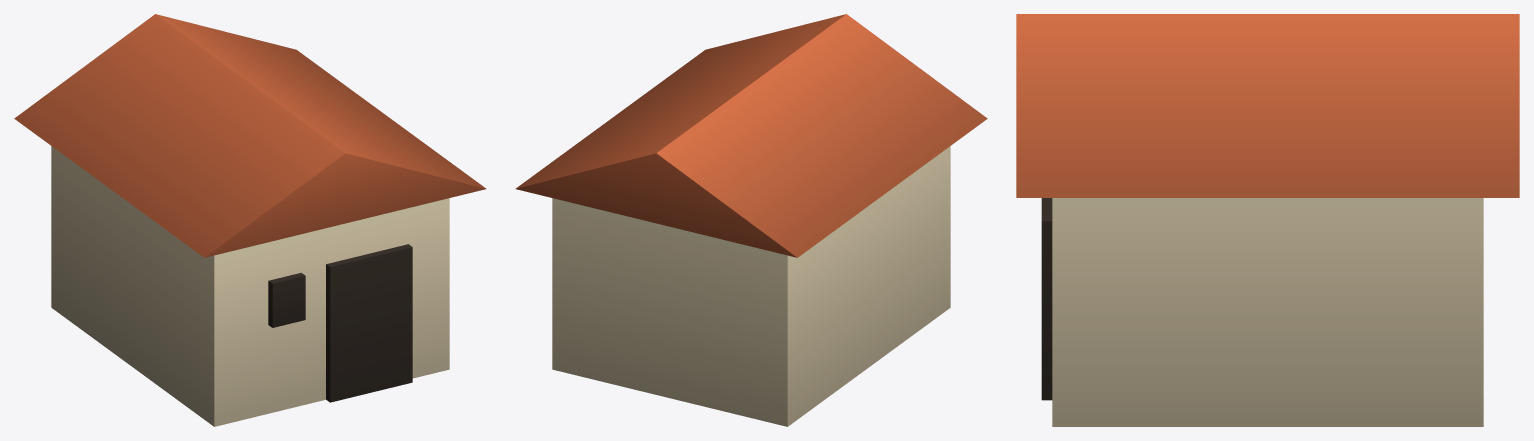
File: house_ME_2a.glb
3 views of the same model, side by side, from view 1: azimuth 30°, elevation 25°; view 2: azimuth 150°, elevation 25°; view 3: azimuth 270°, elevation 25° (orthographic). The views are drawn at different scales.
Parts seen in each view (by area): view 1: Body; view 2: Body; view 3: Body.
Boxes of the visible parts, x1,y1,x2,y2 form: Body: [14, 14, 486, 426]; Body: [515, 14, 987, 426]; Body: [1016, 14, 1519, 426].
Size of the model in its own units: 1.2 by 1.03 by 1.4.
Materials: 1 (1 with a texture image).
